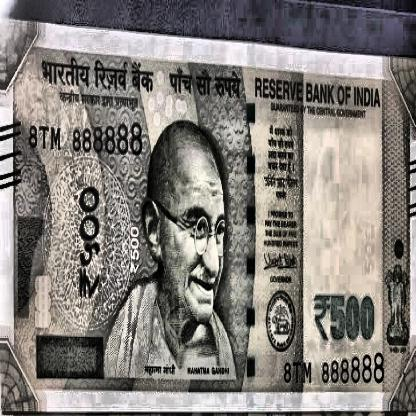Rs500: (308, 283, 382, 349)
